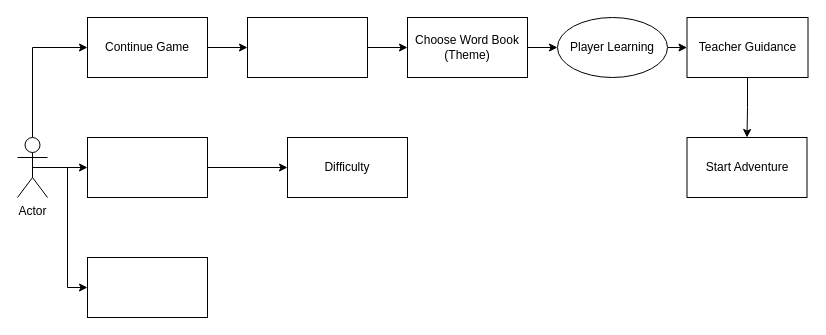
This 826x335 diagram has some shape labels left out. Here are the shapes that lost their labels. From the top down, the box of each, then its label:
(246, 16, 368, 78): L ibrary
(86, 136, 208, 198): Sett ing
(86, 256, 208, 318): New Game
